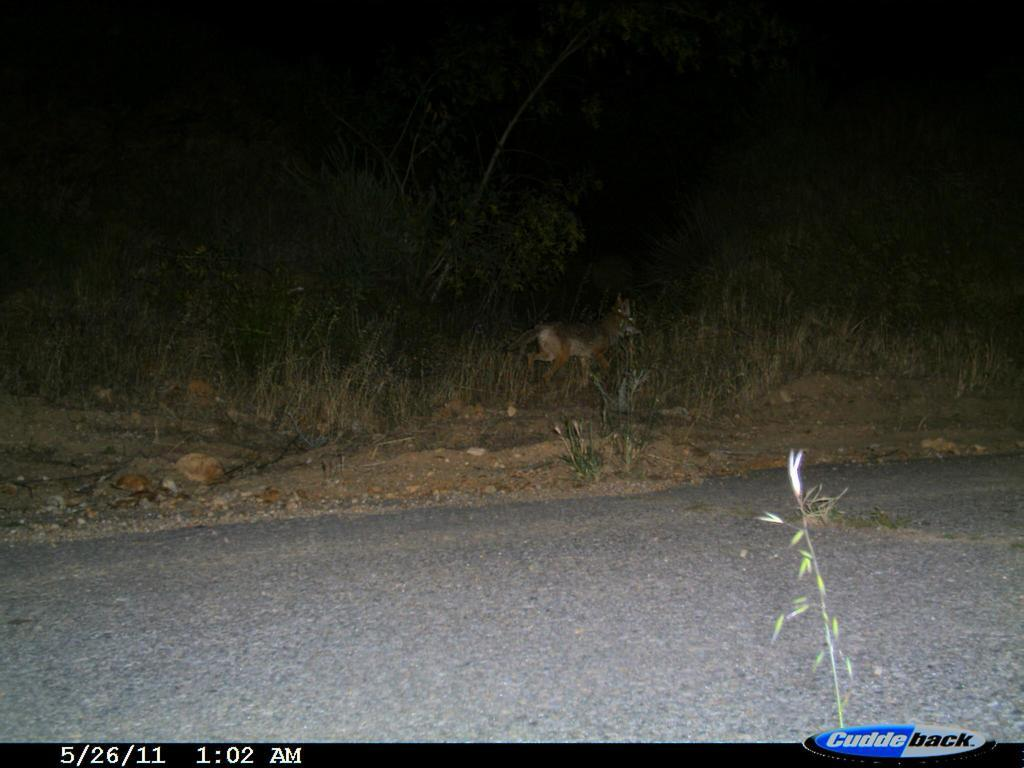coyote: (515, 282, 661, 388)
